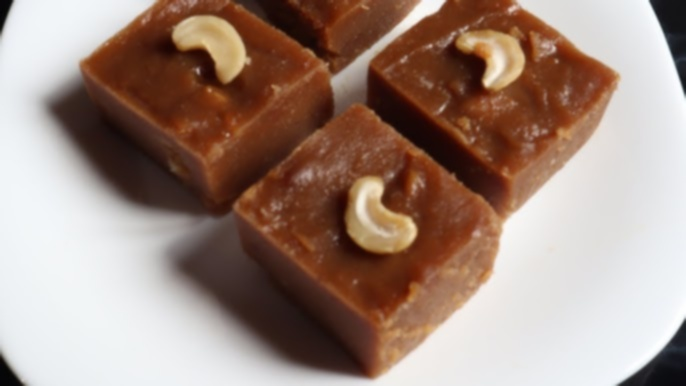dodol: (229, 98, 501, 379), (366, 2, 620, 229), (78, 0, 337, 211)
